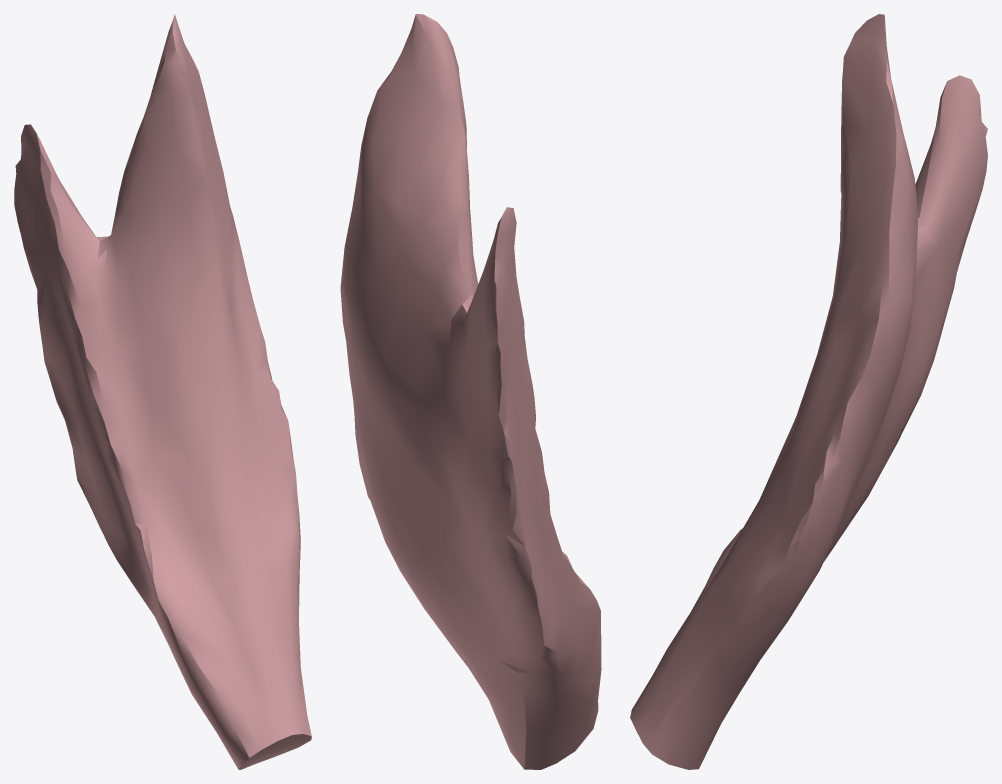
The model's file is fma46137_mm1951.glb.
3 views of the same model, side by side, from view 1: azimuth 30°, elevation 25°; view 2: azimuth 150°, elevation 25°; view 3: azimuth 270°, elevation 25° (orthographic). The views are drawn at different scales.
Parts seen in each view (by area): view 1: FMA46137_MM1951; view 2: FMA46137_MM1951; view 3: FMA46137_MM1951.
Boxes of the visible parts, left/top/right/bottom form: FMA46137_MM1951: left=14, top=14, right=311, bottom=769; FMA46137_MM1951: left=340, top=14, right=601, bottom=769; FMA46137_MM1951: left=630, top=14, right=987, bottom=769.
Size of the model in its own units: 0.00984 by 0.0331 by 0.0142.
